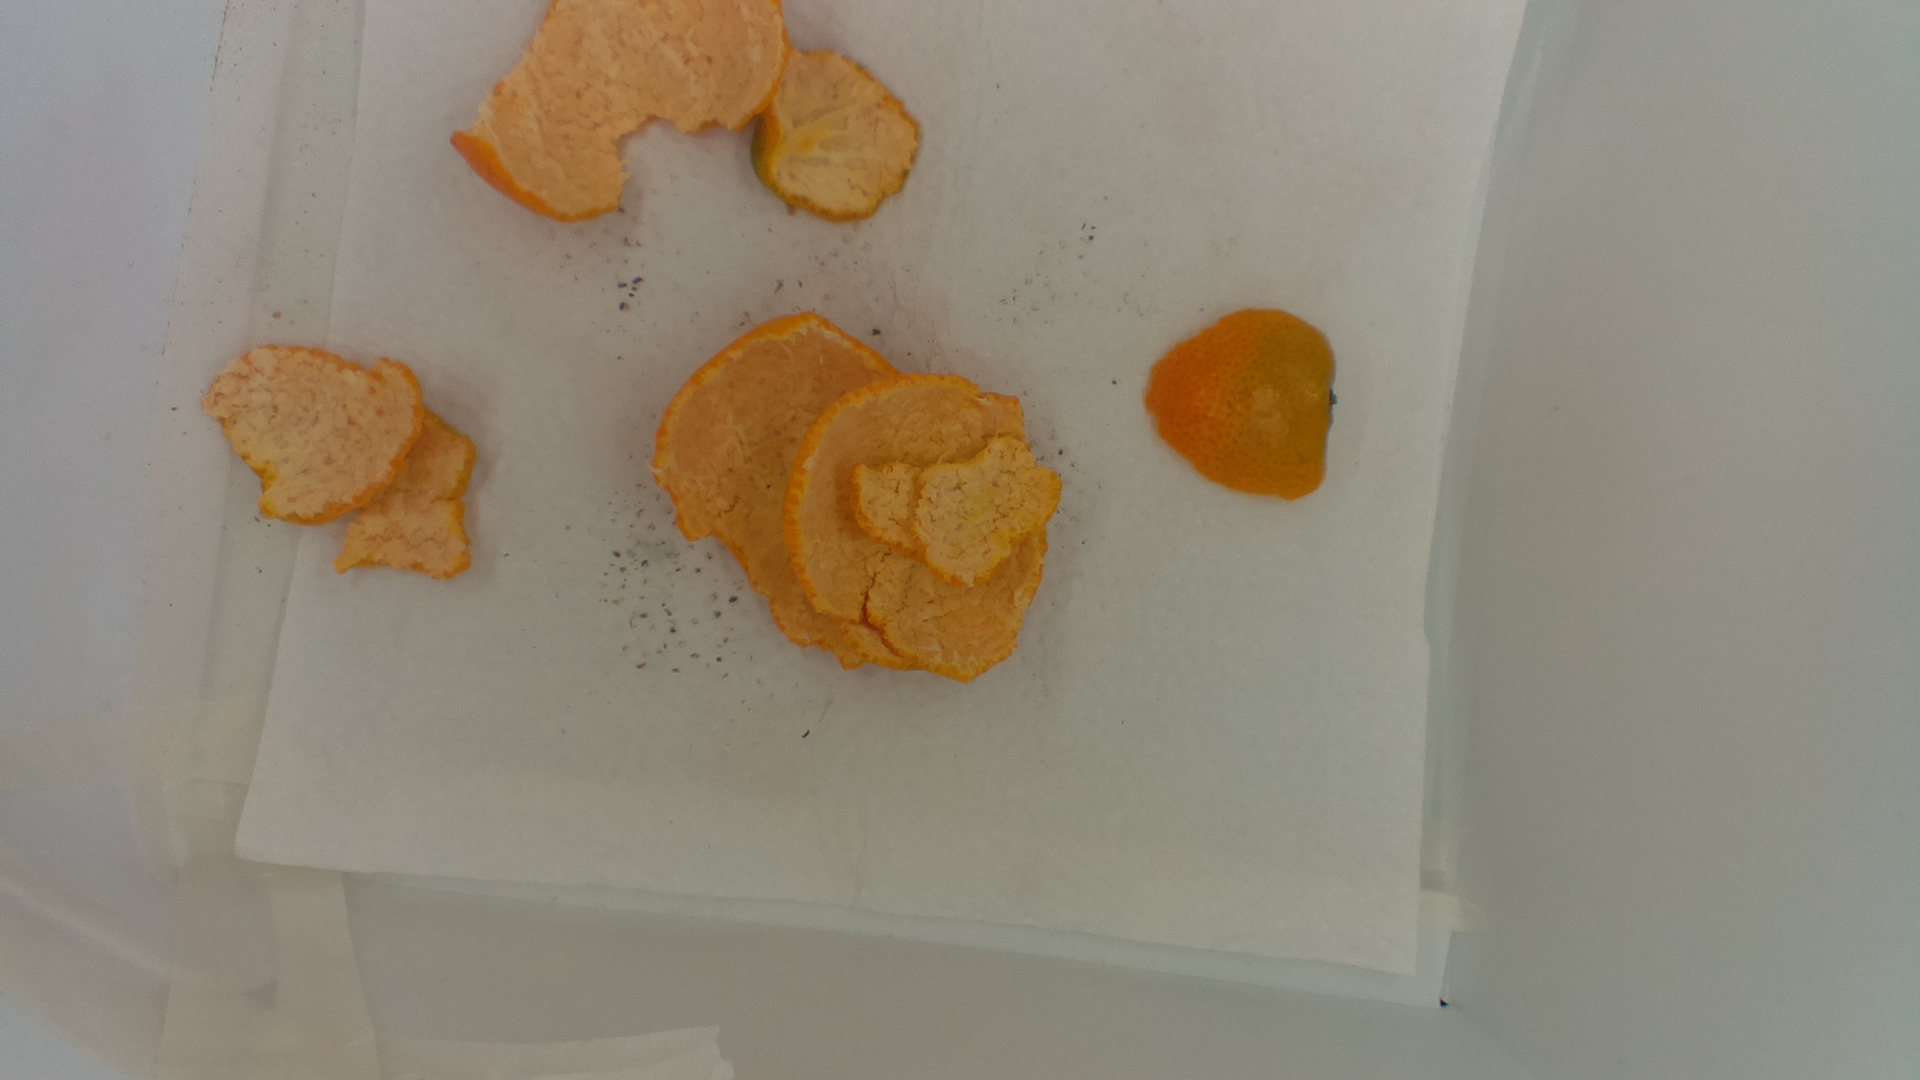fruit: (645, 305, 1069, 698), (448, 1, 928, 227), (200, 335, 477, 589), (1149, 306, 1349, 508)
